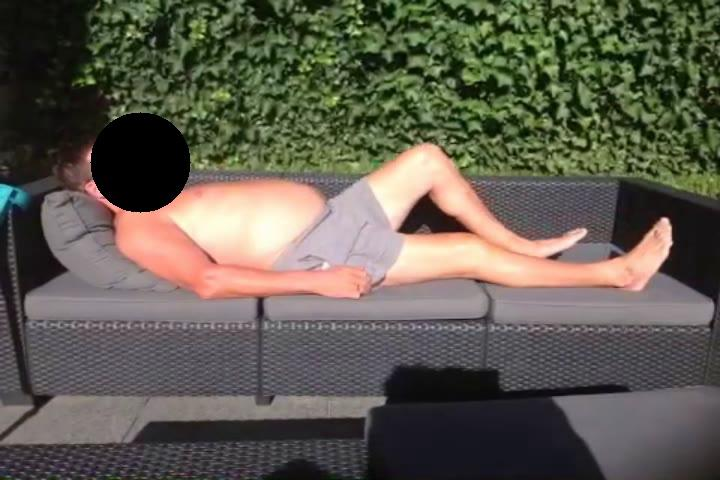lower_body: (305, 142, 675, 296)
